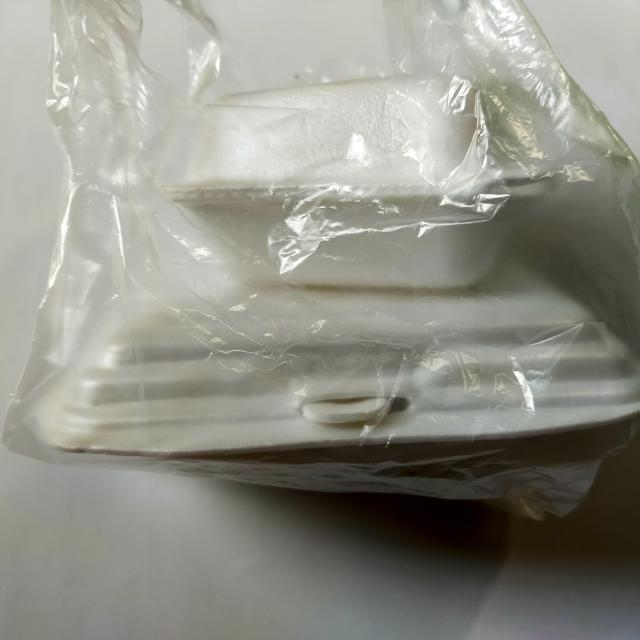styrofoam: (2, 0, 639, 519)
